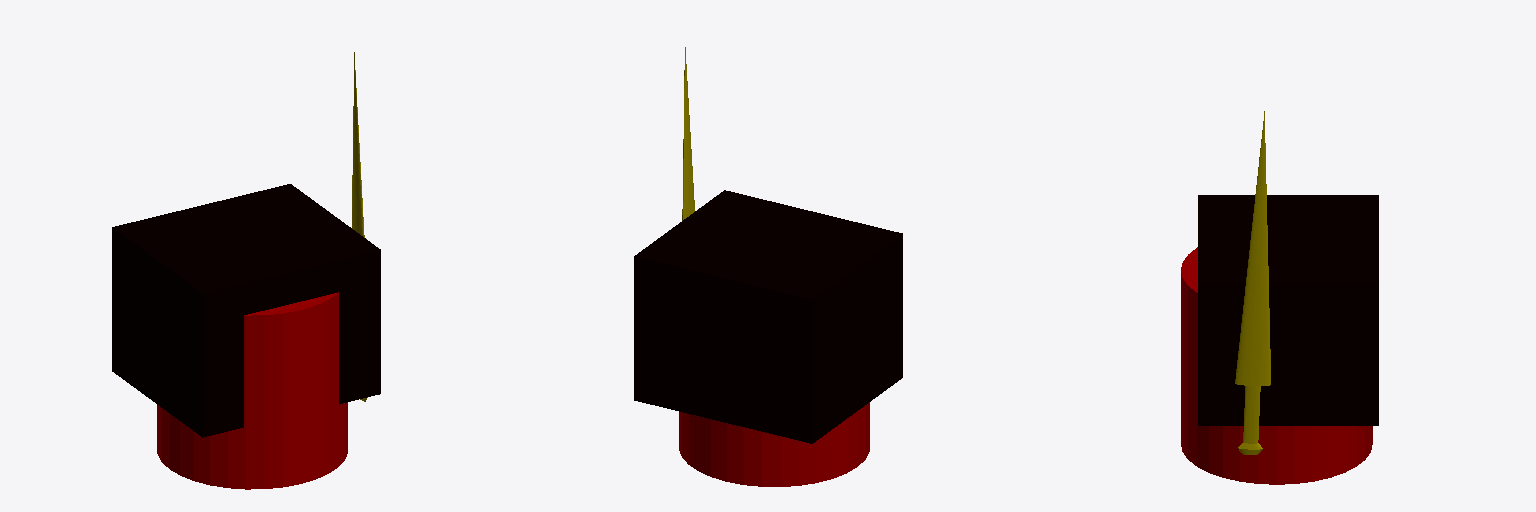
The model's file is Enemy.obj.
The picture shows the model from 3 angles: view 1: azimuth 30°, elevation 25°; view 2: azimuth 150°, elevation 25°; view 3: azimuth 270°, elevation 25°; orthographic projection.
Visible parts, largest first — view 1: Cube_Cube.001, Cylinder, Cone; view 2: Cube_Cube.001, Cylinder, Cone; view 3: Cube_Cube.001, Cylinder, Cone.
Part boxes in pixels (left/top/right/bottom): Cube_Cube.001: left=112, top=184, right=380, bottom=437; Cylinder: left=157, top=292, right=347, bottom=489; Cone: left=352, top=52, right=367, bottom=401; Cube_Cube.001: left=634, top=190, right=902, bottom=443; Cylinder: left=679, top=402, right=869, bottom=486; Cone: left=682, top=47, right=694, bottom=220; Cube_Cube.001: left=1198, top=195, right=1378, bottom=425; Cylinder: left=1181, top=247, right=1372, bottom=484; Cone: left=1235, top=111, right=1270, bottom=454.
Bounding box in the file's own units: 2.27 × 4.38 × 2.07.